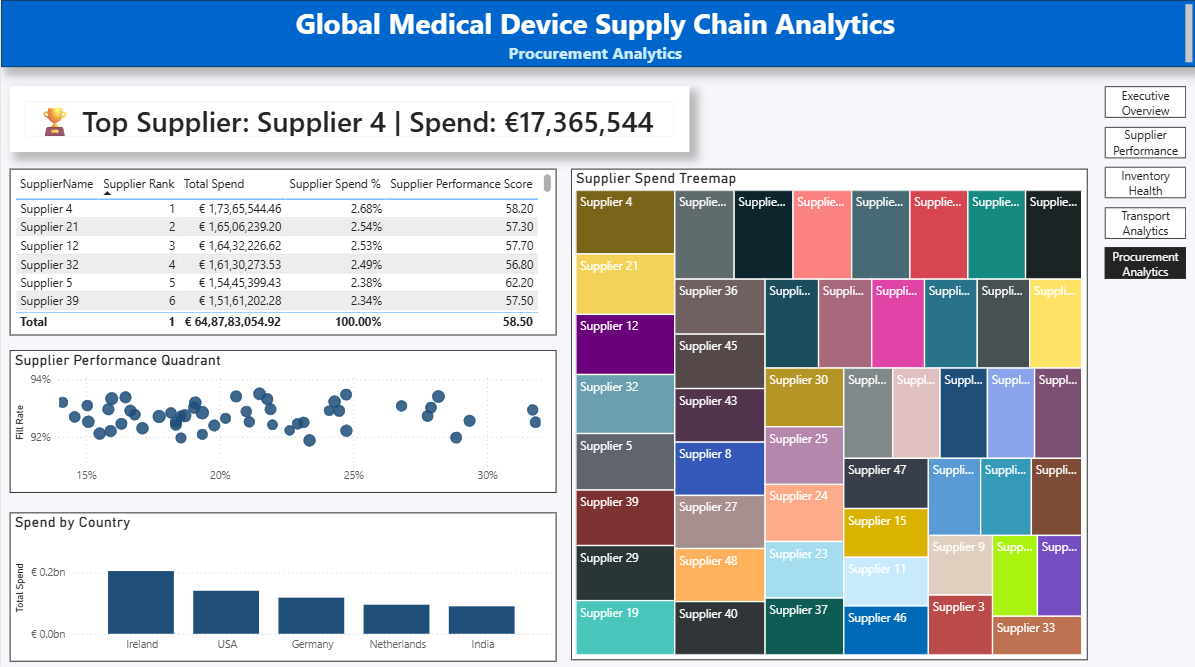

The dashboard page shown, as its layout file describes it:
{"tool":"powerbi","page":{"name":"Procurement Analytics","canvas":[1366,768],"ordinal":5},"visuals":[{"type":"shape","box":[0,0,1366.7,76.7],"z":0},{"type":"textbox","box":[0,0,1366.7,76.7],"z":1000},{"type":"pageNavigator","box":[1261.7,98.3,93.3,220],"z":2000},{"type":"tableEx","fields":{"Values":["Supplier_Master.SupplierName","DAX Measures.Supplier Rank","DAX Measures.Total Spend","DAX Measures.Supplier Spend %","DAX Measures.Supplier Performance Score"]},"box":[10,193.3,625,190],"z":3000},{"type":"cardVisual","fields":{"Data":["DAX Measures.Executive Insight"]},"box":[10,98.3,776.7,75],"z":4000},{"type":"treemap","title":"Supplier Spend Treemap","fields":{"Values":["DAX Measures.Total Spend"],"Details":["Supplier_Master.SupplierName"]},"box":[651.7,193.3,590,561.7],"z":5000},{"type":"clusteredColumnChart","title":"Spend by Country","fields":{"Category":["Supplier_Master.Country"],"Y":["DAX Measures.Total Spend"]},"box":[10,585,625,170],"z":6000},{"type":"scatterChart","title":"Supplier Performance Quadrant","fields":{"Category":["Supplier_Master.SupplierName"],"X":["DAX Measures.On-Time Delivery %"],"Y":["DAX Measures.Fill Rate"],"Size":["DAX Measures.Total Spend"]},"box":[10,400,625,163.3],"z":7000}]}

Visuals, with their boxes in screenshot pixels (x1, y1, x2, y2), scaled from the page's 1366x768 canvas onto the 1195x667 screenshot:
shape: <bbox>0, 0, 1194, 67</bbox>
textbox: <bbox>0, 0, 1194, 67</bbox>
pageNavigator: <bbox>1104, 85, 1185, 276</bbox>
tableEx - Supplier_Master.SupplierName x DAX Measures.Supplier Rank: <bbox>9, 168, 556, 333</bbox>
cardVisual - DAX Measures.Executive Insight: <bbox>9, 85, 688, 151</bbox>
"Supplier Spend Treemap" treemap: <bbox>570, 168, 1086, 656</bbox>
"Spend by Country" clusteredColumnChart: <bbox>9, 508, 556, 656</bbox>
"Supplier Performance Quadrant" scatterChart: <bbox>9, 347, 556, 489</bbox>
